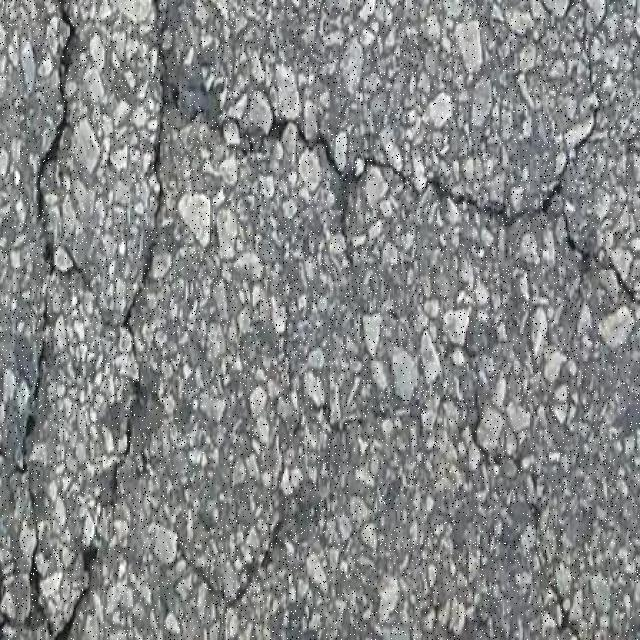Crack: (120, 0, 218, 359), (264, 120, 563, 222), (471, 399, 582, 640), (52, 366, 142, 639), (0, 242, 80, 477), (36, 0, 75, 226), (186, 520, 278, 607), (563, 206, 640, 308), (0, 490, 49, 637), (291, 404, 371, 436)
